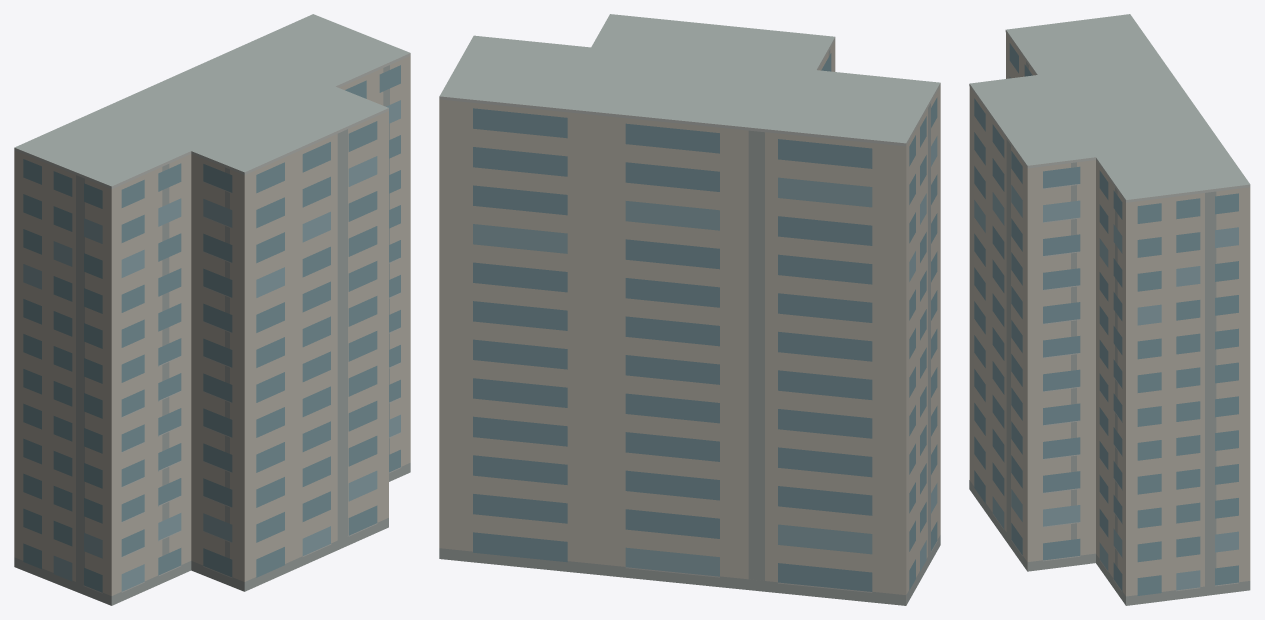
The model's file is residential-a6f4baf9-d91a-480d-8f76-f5492d8b24bb.glb.
3 renders of one model, left to right at view 1: azimuth 30°, elevation 25°; view 2: azimuth 150°, elevation 25°; view 3: azimuth 270°, elevation 25°, orthographic. The views are drawn at different scales.
Visible parts, largest first — view 1: residential-a6f4baf9-d91a-480d-8f76-f5492d8b24bb.tmp; view 2: residential-a6f4baf9-d91a-480d-8f76-f5492d8b24bb.tmp; view 3: residential-a6f4baf9-d91a-480d-8f76-f5492d8b24bb.tmp.
Part boxes in pixels (x1,y1,x2,y2): residential-a6f4baf9-d91a-480d-8f76-f5492d8b24bb.tmp: [14, 14, 410, 605]; residential-a6f4baf9-d91a-480d-8f76-f5492d8b24bb.tmp: [439, 14, 940, 605]; residential-a6f4baf9-d91a-480d-8f76-f5492d8b24bb.tmp: [969, 14, 1250, 605].
Size of the model in its own units: 36.01 by 36.6 by 22.98.
